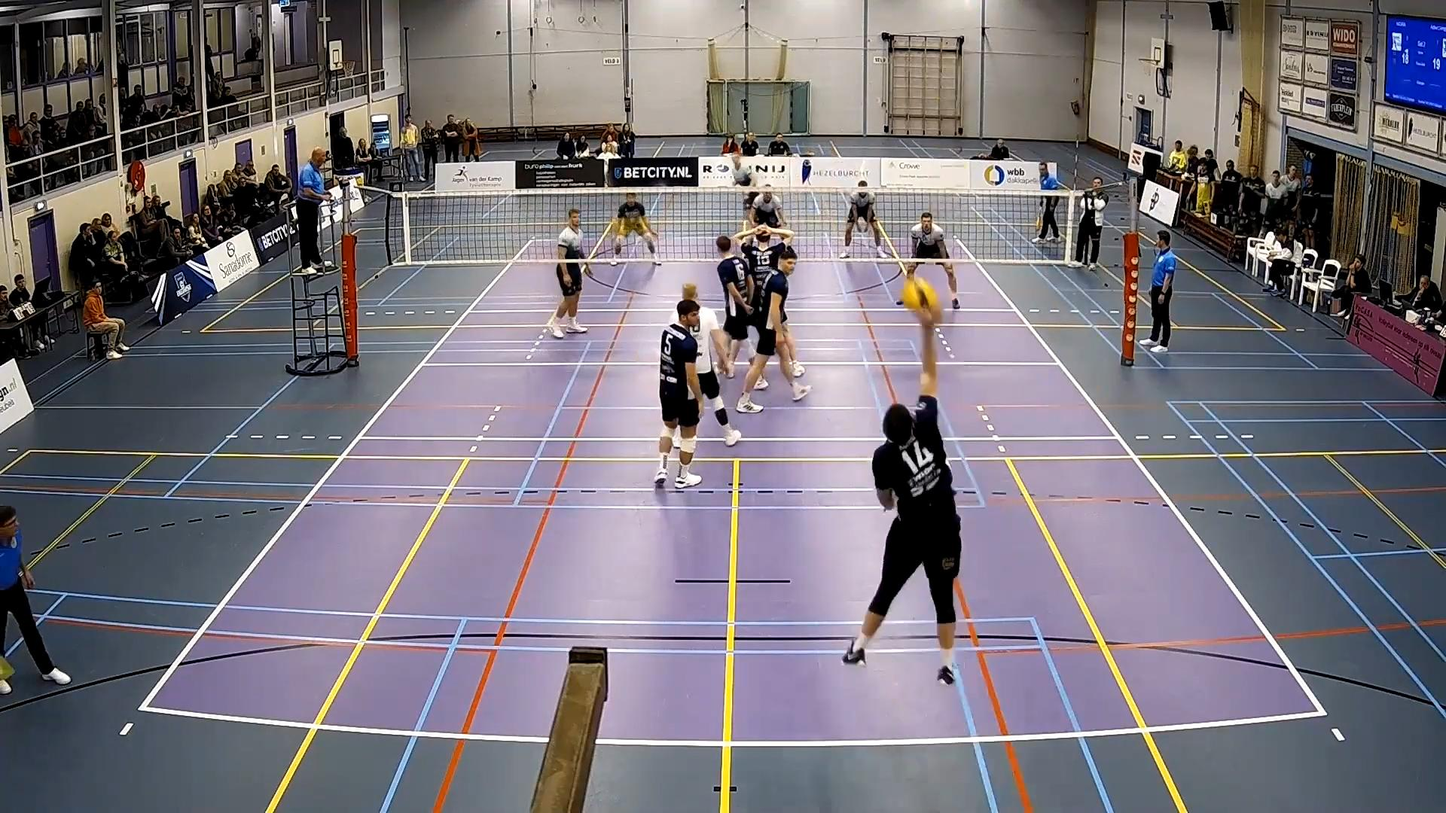muro: (841, 307, 961, 692)
